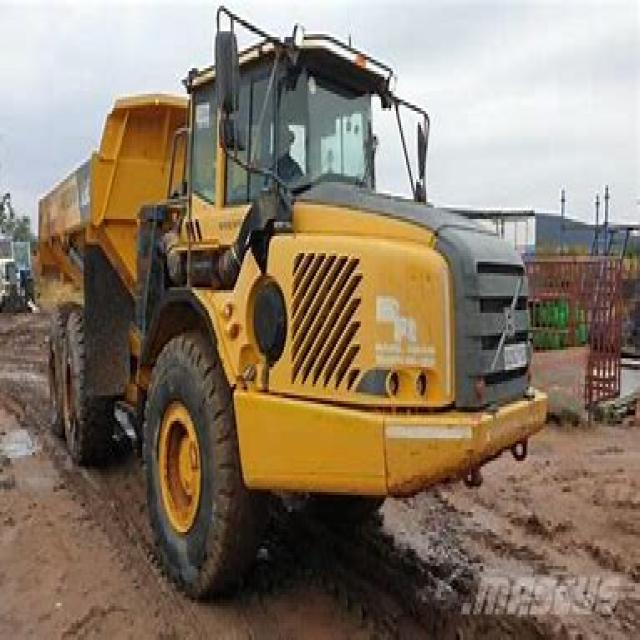dump_truck: (18, 20, 580, 589)
